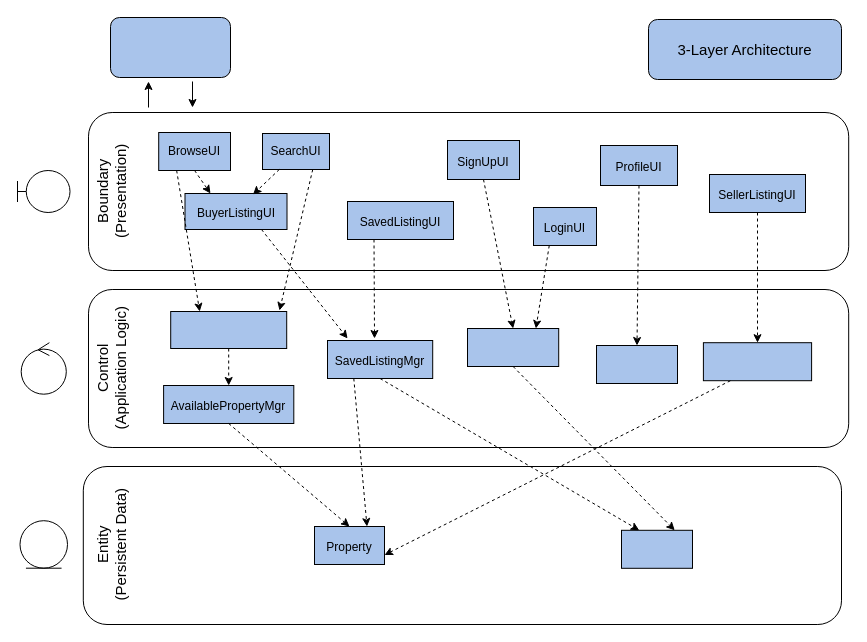
Some shapes in this 867 by 642 pixel diagram are drawn without their labels. The shapes that lost their labels are listed below. From the top down, each one's centre as x and y in pixels, then its label:
point (170, 47): Users
point (228, 329): BrowseSearchMgr
point (512, 347): AccountMgr
point (637, 364): ProfileMgr
point (757, 361): SellerListingMgr
point (656, 548): Account
